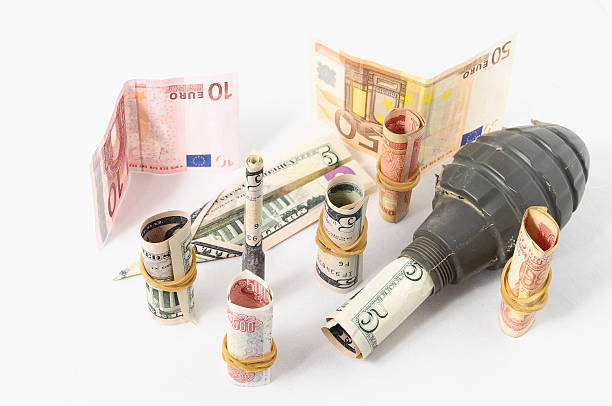e1: (403, 117, 591, 295)
